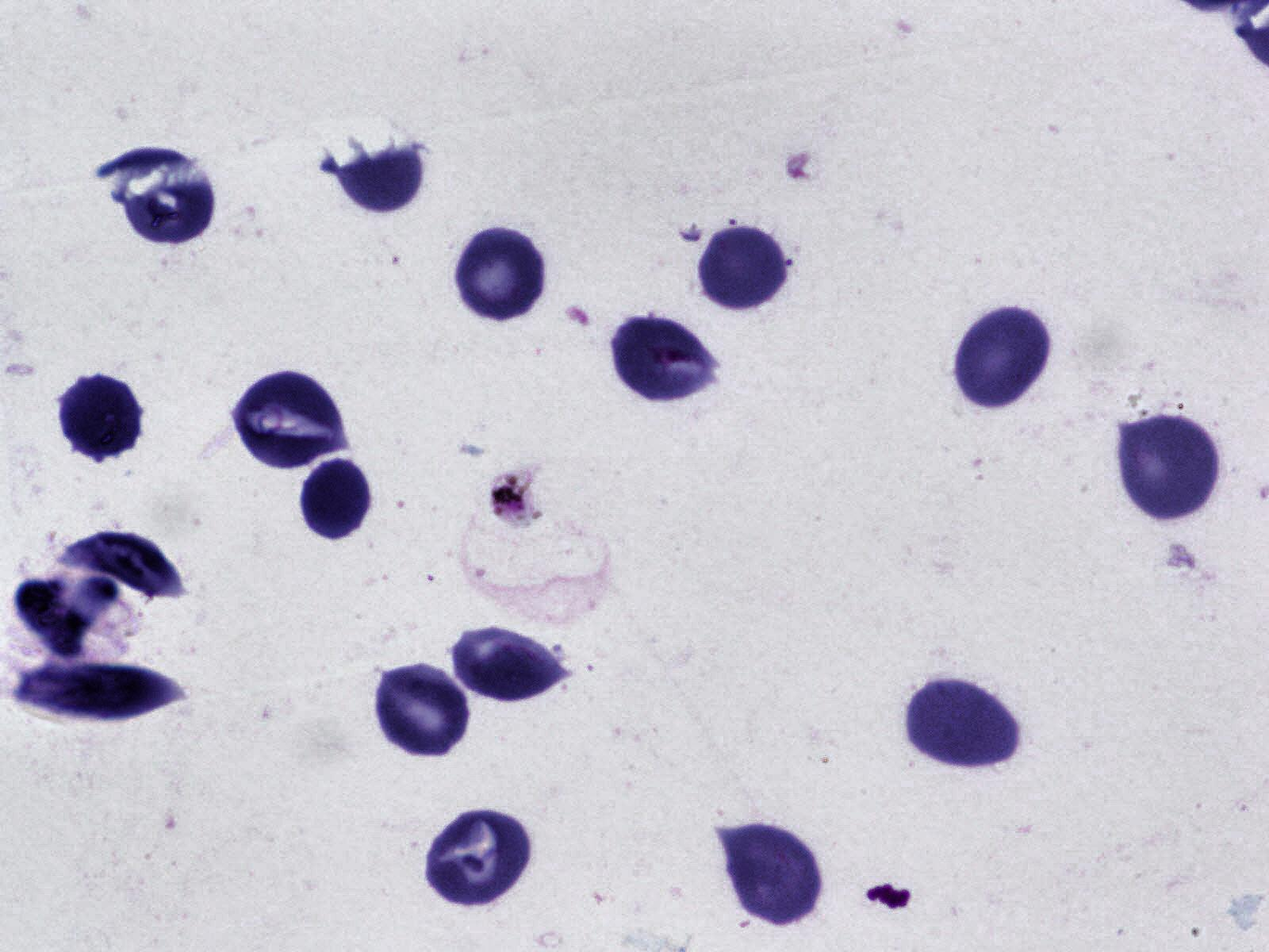Uninfected: (423, 804, 530, 910), (231, 371, 347, 468), (905, 679, 1018, 768), (114, 148, 217, 245), (1119, 417, 1216, 519), (956, 305, 1048, 410), (724, 830, 822, 927), (36, 662, 186, 722), (451, 228, 547, 319), (375, 664, 471, 754), (58, 372, 148, 463), (697, 226, 791, 311), (613, 320, 711, 401), (455, 630, 564, 700), (80, 526, 181, 600), (335, 138, 424, 212), (300, 457, 376, 539)
